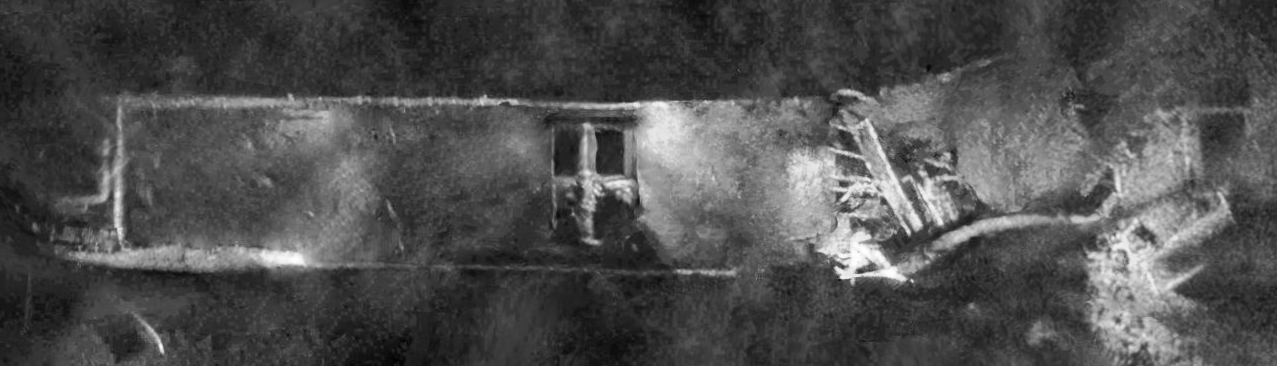ship: (34, 52, 1265, 365)
